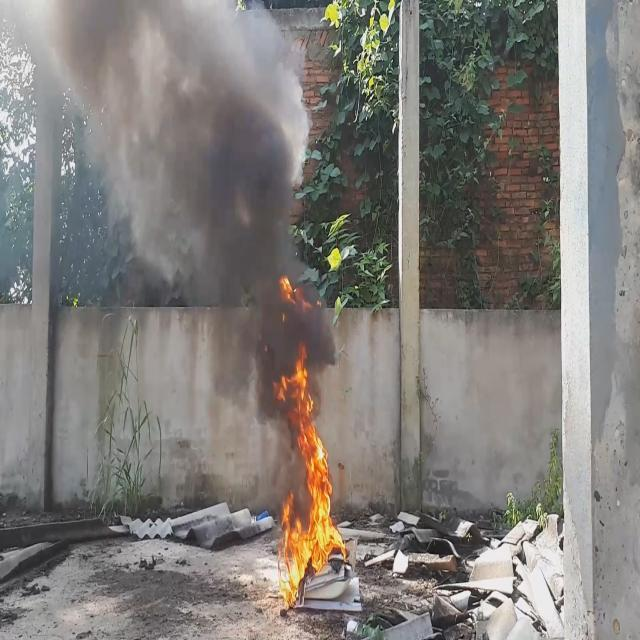Fire: (273, 342, 349, 614)
Smoke: (0, 0, 336, 429)
